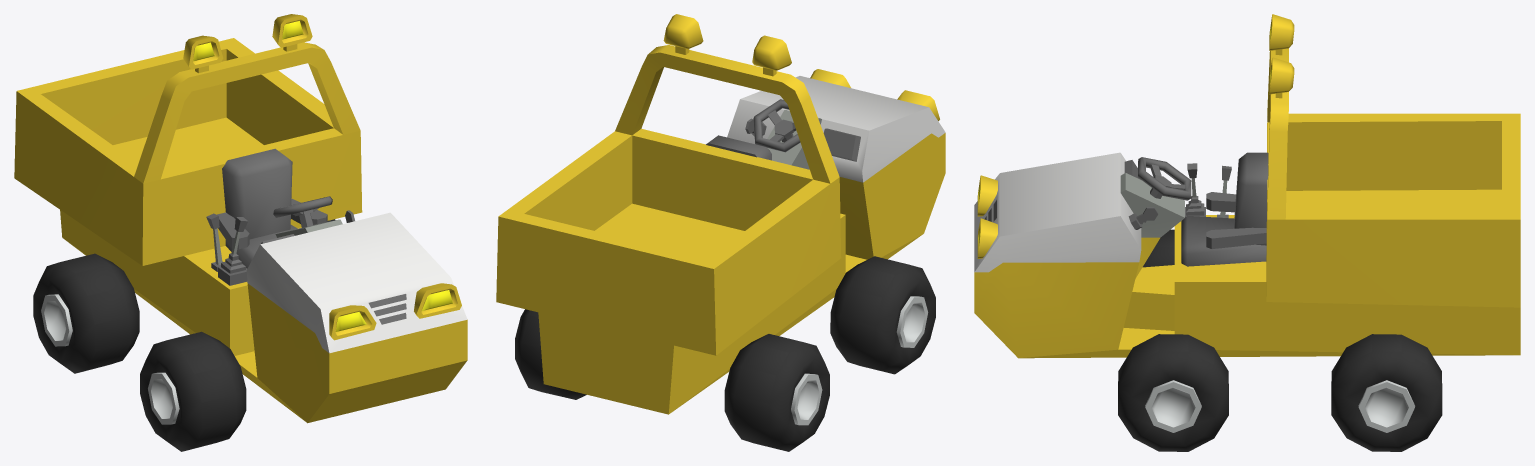
Rendered from tractor final.FBX.
3 views of the same model, side by side, from view 1: azimuth 30°, elevation 25°; view 2: azimuth 150°, elevation 25°; view 3: azimuth 270°, elevation 25° (orthographic).
Visible parts, largest first — view 1: Default, Wheel_small__2__1, Wheel_small__2_; view 2: Default, Wheel_small__2_, Wheel_small__2__1, Wheel_small__1__1; view 3: Default, Wheel_small__1__1, Wheel_small__1_, Wheel_small__2_.
Boxes of the visible parts, x1,y1,x2,y2 form: Default: (14,14,467,423); Wheel_small__2__1: (33,253,139,373); Wheel_small__2_: (140,331,246,451); Default: (496,14,945,414); Wheel_small__2_: (830,256,935,374); Wheel_small__2__1: (724,334,829,451); Wheel_small__1__1: (515,309,586,399); Default: (974,14,1520,358); Wheel_small__1__1: (1331,334,1442,451); Wheel_small__1_: (1118,334,1228,451); Wheel_small__2_: (1143,229,1174,267).
Bounding box in the file's own units: 200 × 244 × 344.
